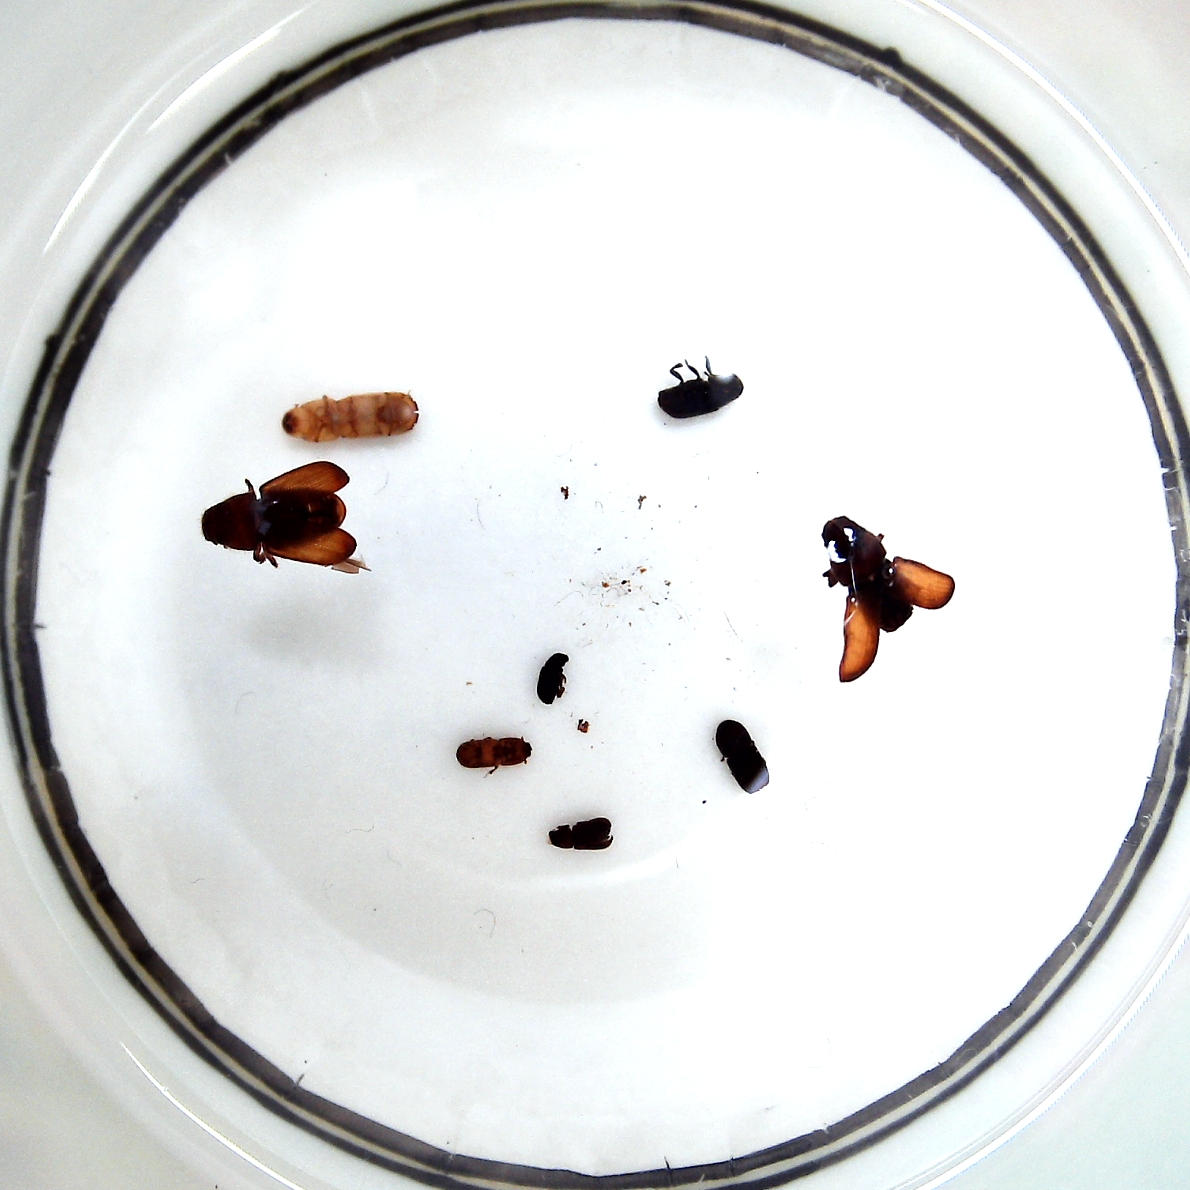Boerner: (282, 392, 418, 444)
Leconte: (202, 460, 357, 562), (822, 517, 914, 633)
acuminatus: (537, 653, 569, 704)
armandi: (657, 373, 744, 418)
coleoptera: (457, 736, 533, 768), (548, 817, 614, 850)
linnaeus: (717, 721, 770, 793)
